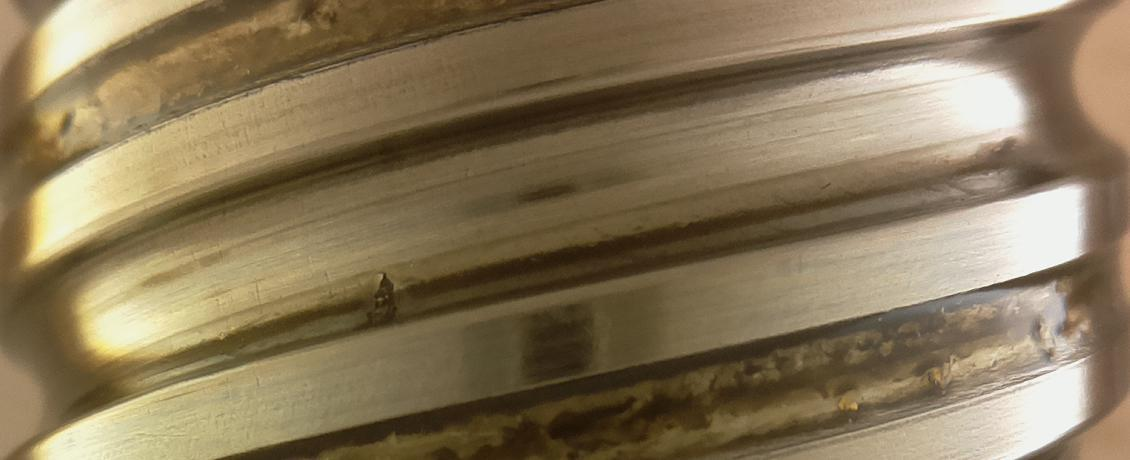pitting: (366, 273, 396, 327)
